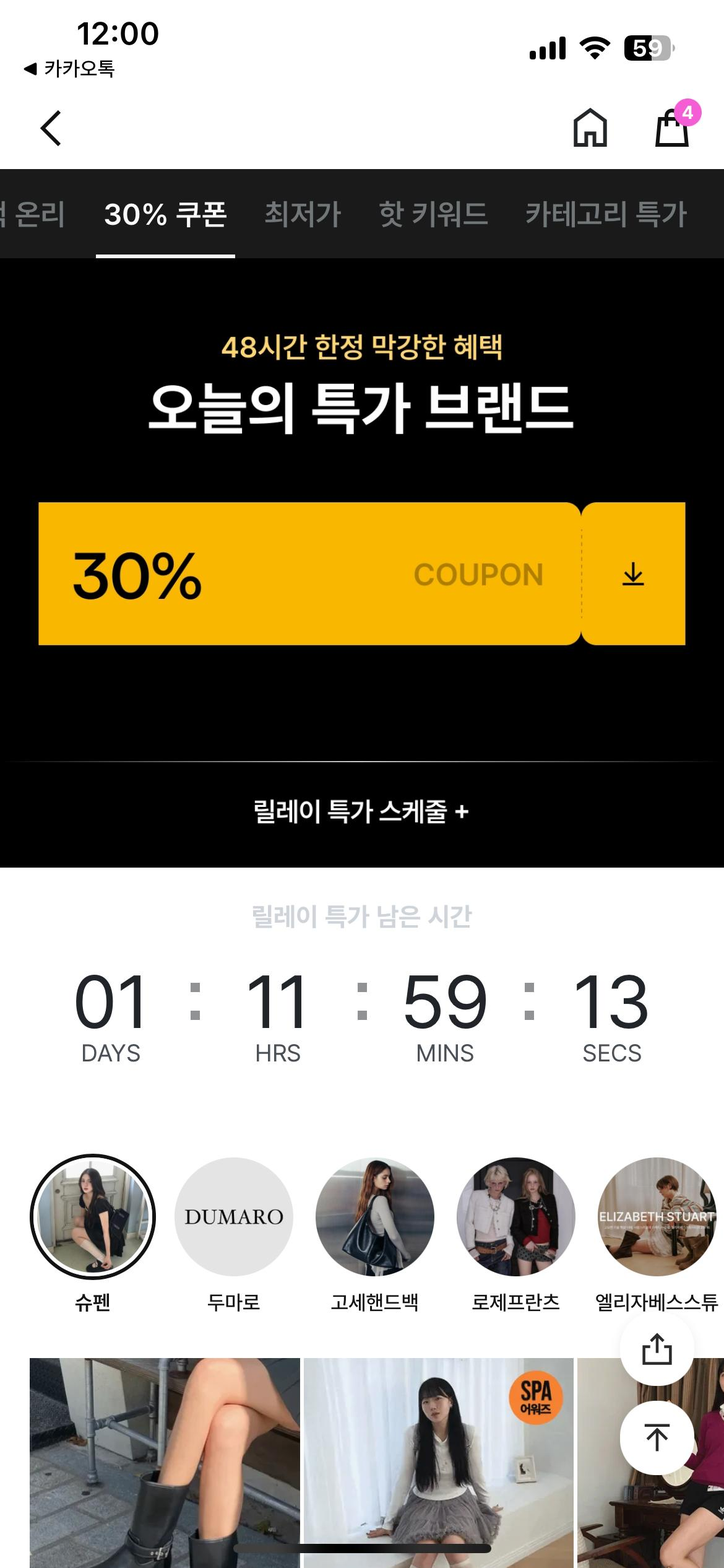button: (33, 489, 699, 667), (155, 1158, 311, 1340), (446, 1144, 590, 1323), (245, 766, 495, 859), (592, 1146, 723, 1313), (23, 1158, 151, 1327), (318, 1156, 441, 1327), (93, 186, 245, 266), (530, 178, 710, 244), (363, 184, 509, 256), (243, 171, 349, 252), (631, 1422, 695, 1472), (635, 1327, 695, 1377)
